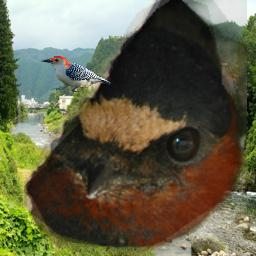Swallow: (24, 0, 247, 254)
Woodpecker: (41, 56, 111, 94)
